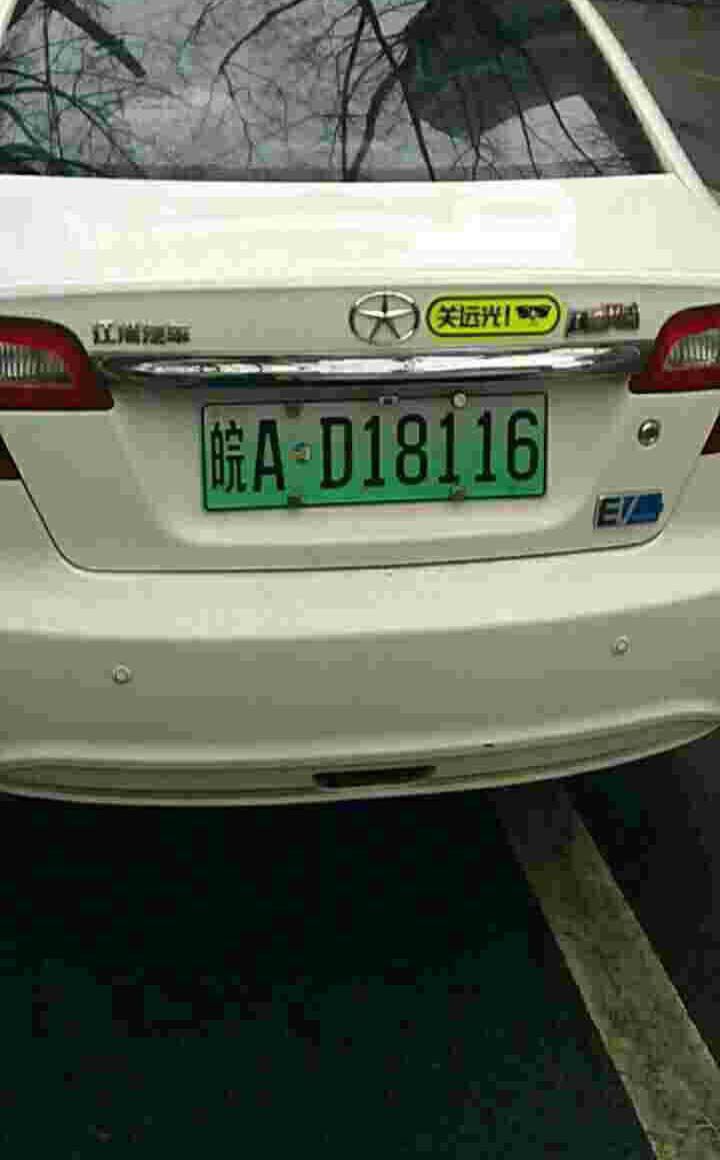car_id: (202, 392, 544, 507)
